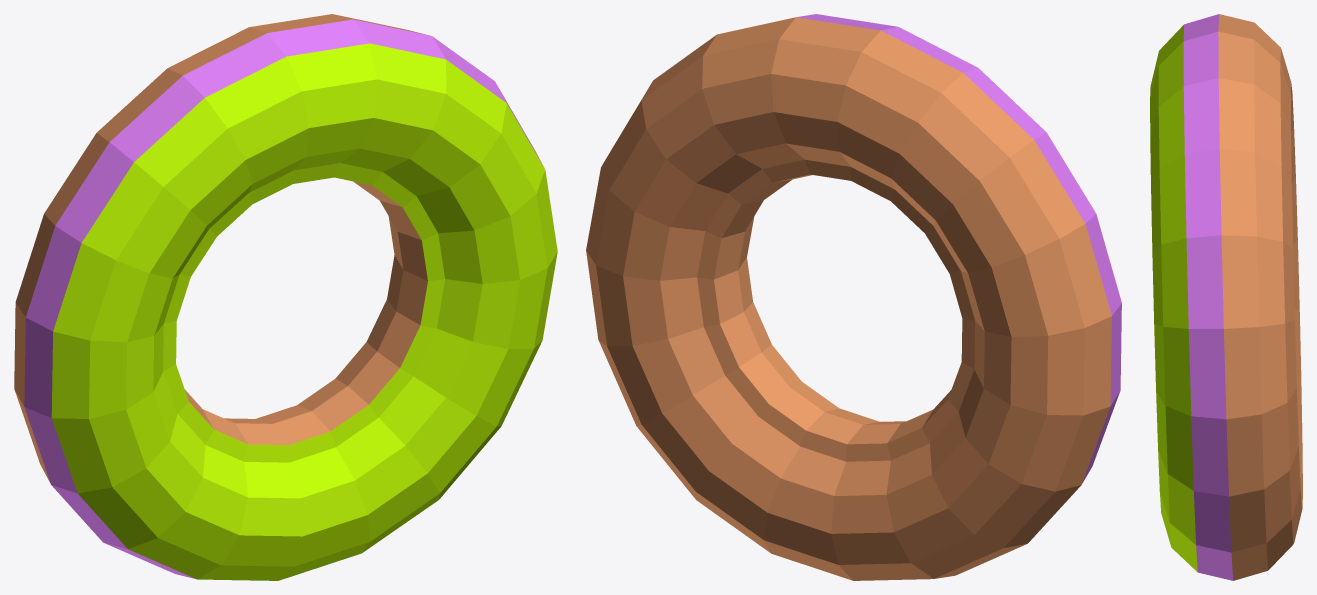
Rendered from donut5.fbx.
The picture shows the model from 3 angles, left to right: view 1: azimuth 30°, elevation 25°; view 2: azimuth 150°, elevation 25°; view 3: azimuth 270°, elevation 25°; orthographic projection. The views are drawn at different scales.
Parts seen in each view (by area): view 1: Torus.001; view 2: Torus.001; view 3: Torus.001.
Boxes of the visible parts, x1,y1,x2,y2 form: Torus.001: (14,14,557,580); Torus.001: (586,14,1121,580); Torus.001: (1150,14,1302,580).
Size of the model in its own units: 169 by 169 by 45.59.
